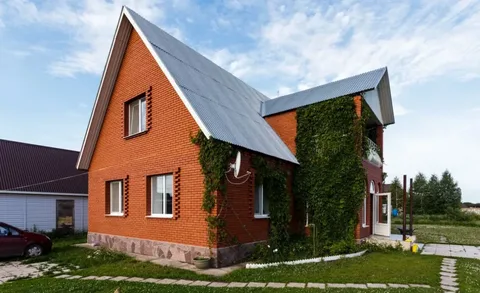private_hause: (73, 4, 419, 257)
